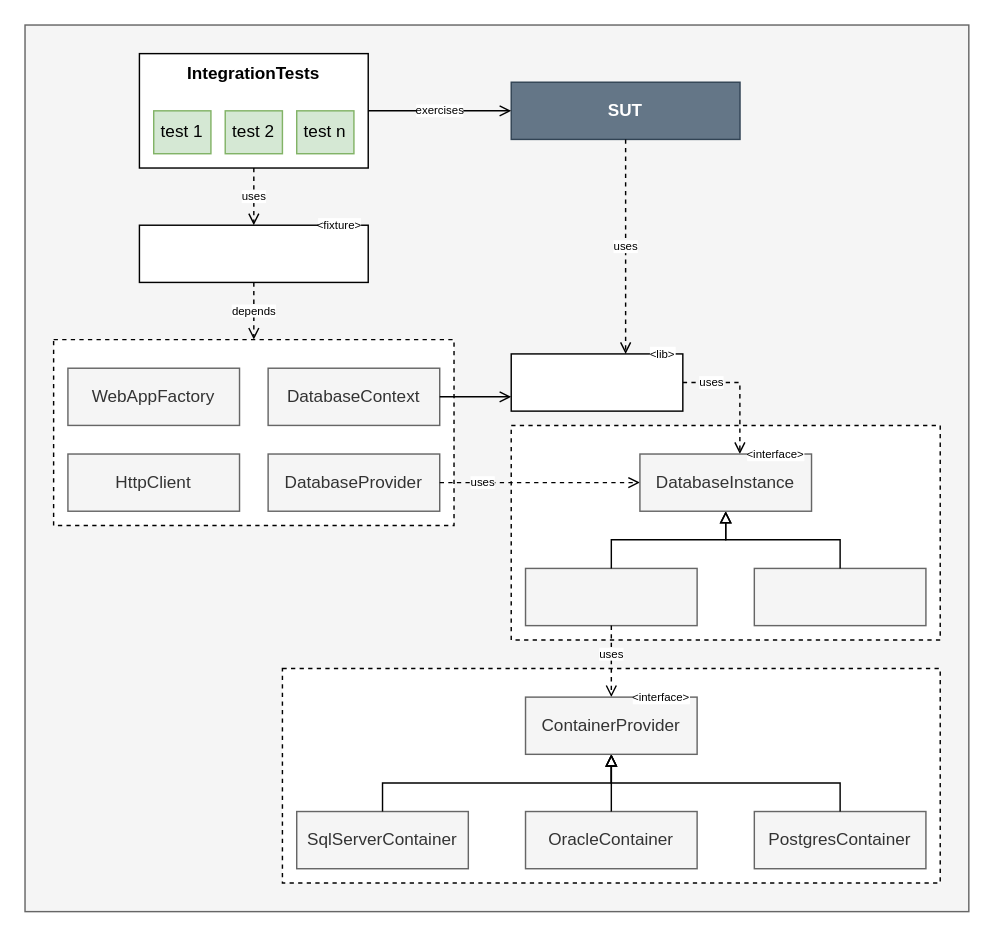
Image size: 994x937. Some labels were removed from this diagram. The box of each missing label's shape, as (x1, y1, x2, y2) in pixels:
ContainerProviders: (281, 667, 940, 883)
DatabaseInstances: (510, 424, 940, 640)
Dependencies: (52, 338, 454, 526)
DockerInstance: (524, 567, 697, 626)
EFCore: (510, 352, 683, 411)
IntegrationTestsFixture: (138, 224, 368, 282)
LocalhostInstance: (753, 567, 926, 626)
